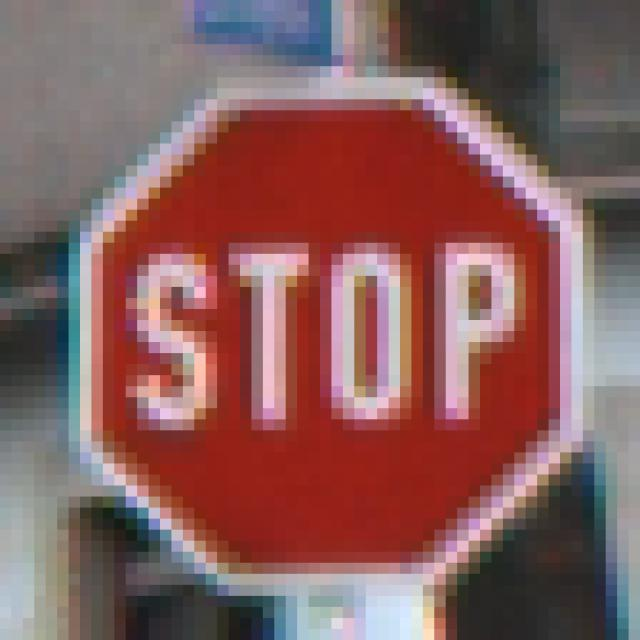STOP: (69, 67, 584, 586)
